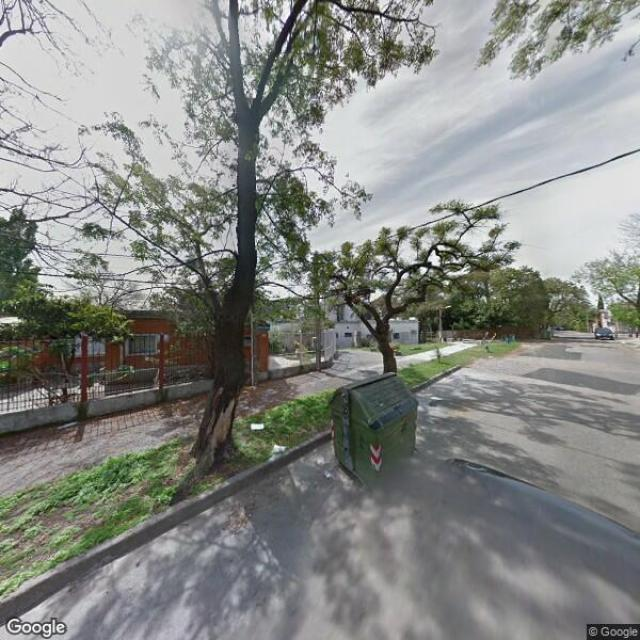garbage container: (320, 366, 430, 494)
